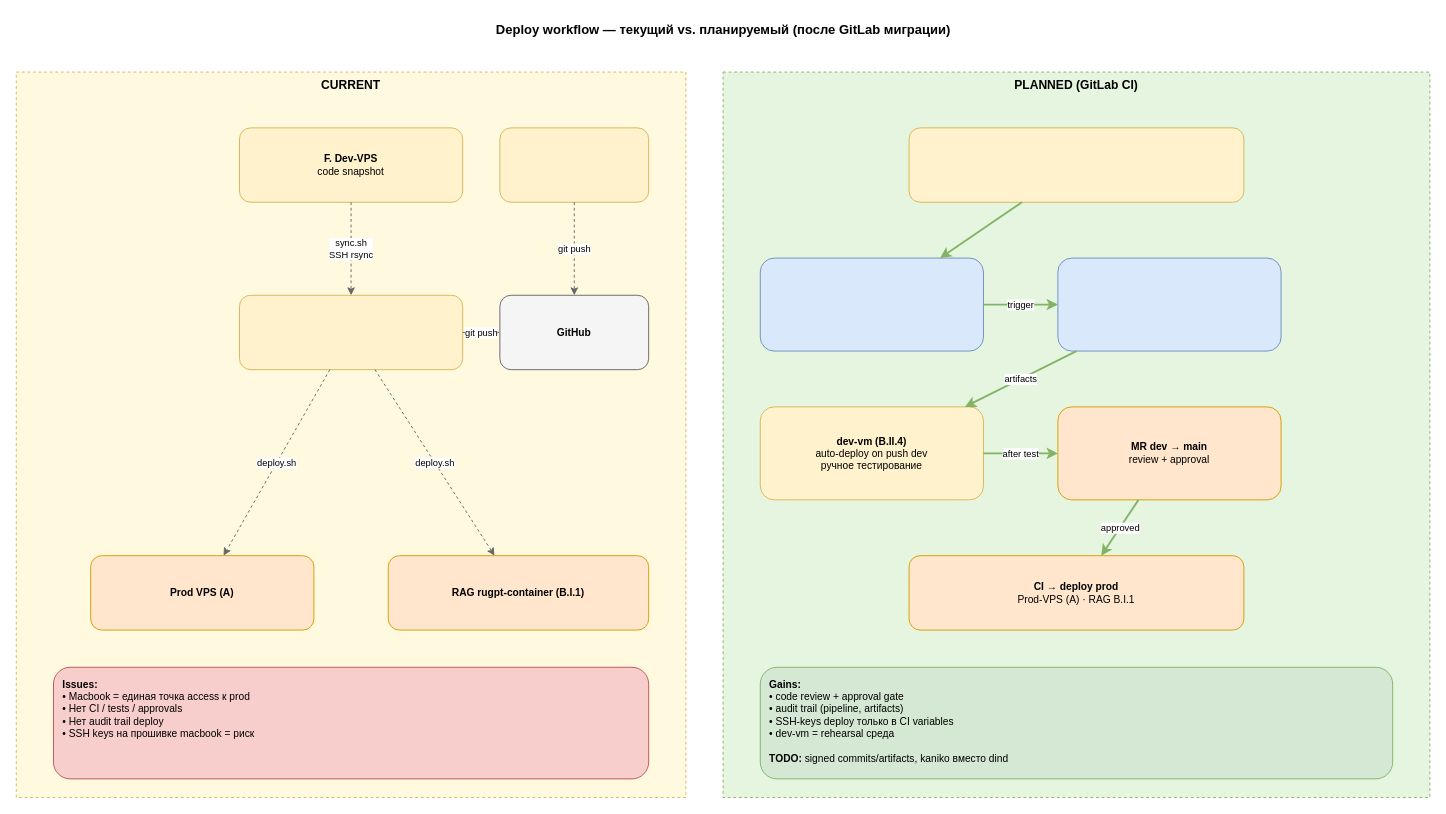
This 1446x814 diagram has some shape labels left out. The shapes that lost their labels are listed below. From the top down, each one's box as (x1, y1, x2, y2) in pixels, then its label:
(499, 127, 649, 202): G. Alex PC
(908, 127, 1244, 202): Developers F · Macbook · G Alex git push origin dev
(759, 257, 983, 351): GitLab CE (B.I.2) receive push trigger pipeline
(1057, 257, 1281, 351): GitLab Runner (B.II.3) Docker executor build / test / artifacts
(239, 294, 463, 370): Macbook (Petr) local repo with .git
